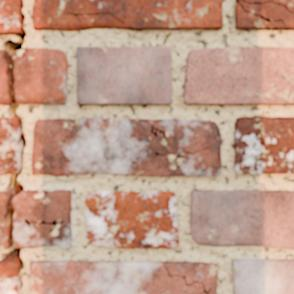brick: (32, 119, 220, 175), (184, 47, 293, 103), (30, 261, 217, 293), (190, 191, 293, 248), (33, 0, 222, 30), (77, 47, 171, 103), (85, 191, 178, 247), (234, 117, 293, 173), (233, 259, 293, 293), (235, 3, 293, 28), (0, 118, 20, 173), (0, 0, 22, 33), (0, 261, 19, 293), (273, 0, 293, 10), (248, 0, 265, 1)
broken_brick: (13, 189, 72, 248), (13, 47, 68, 104), (0, 190, 8, 250), (0, 48, 8, 105)
crack: (0, 2, 27, 291), (236, 0, 293, 25)
